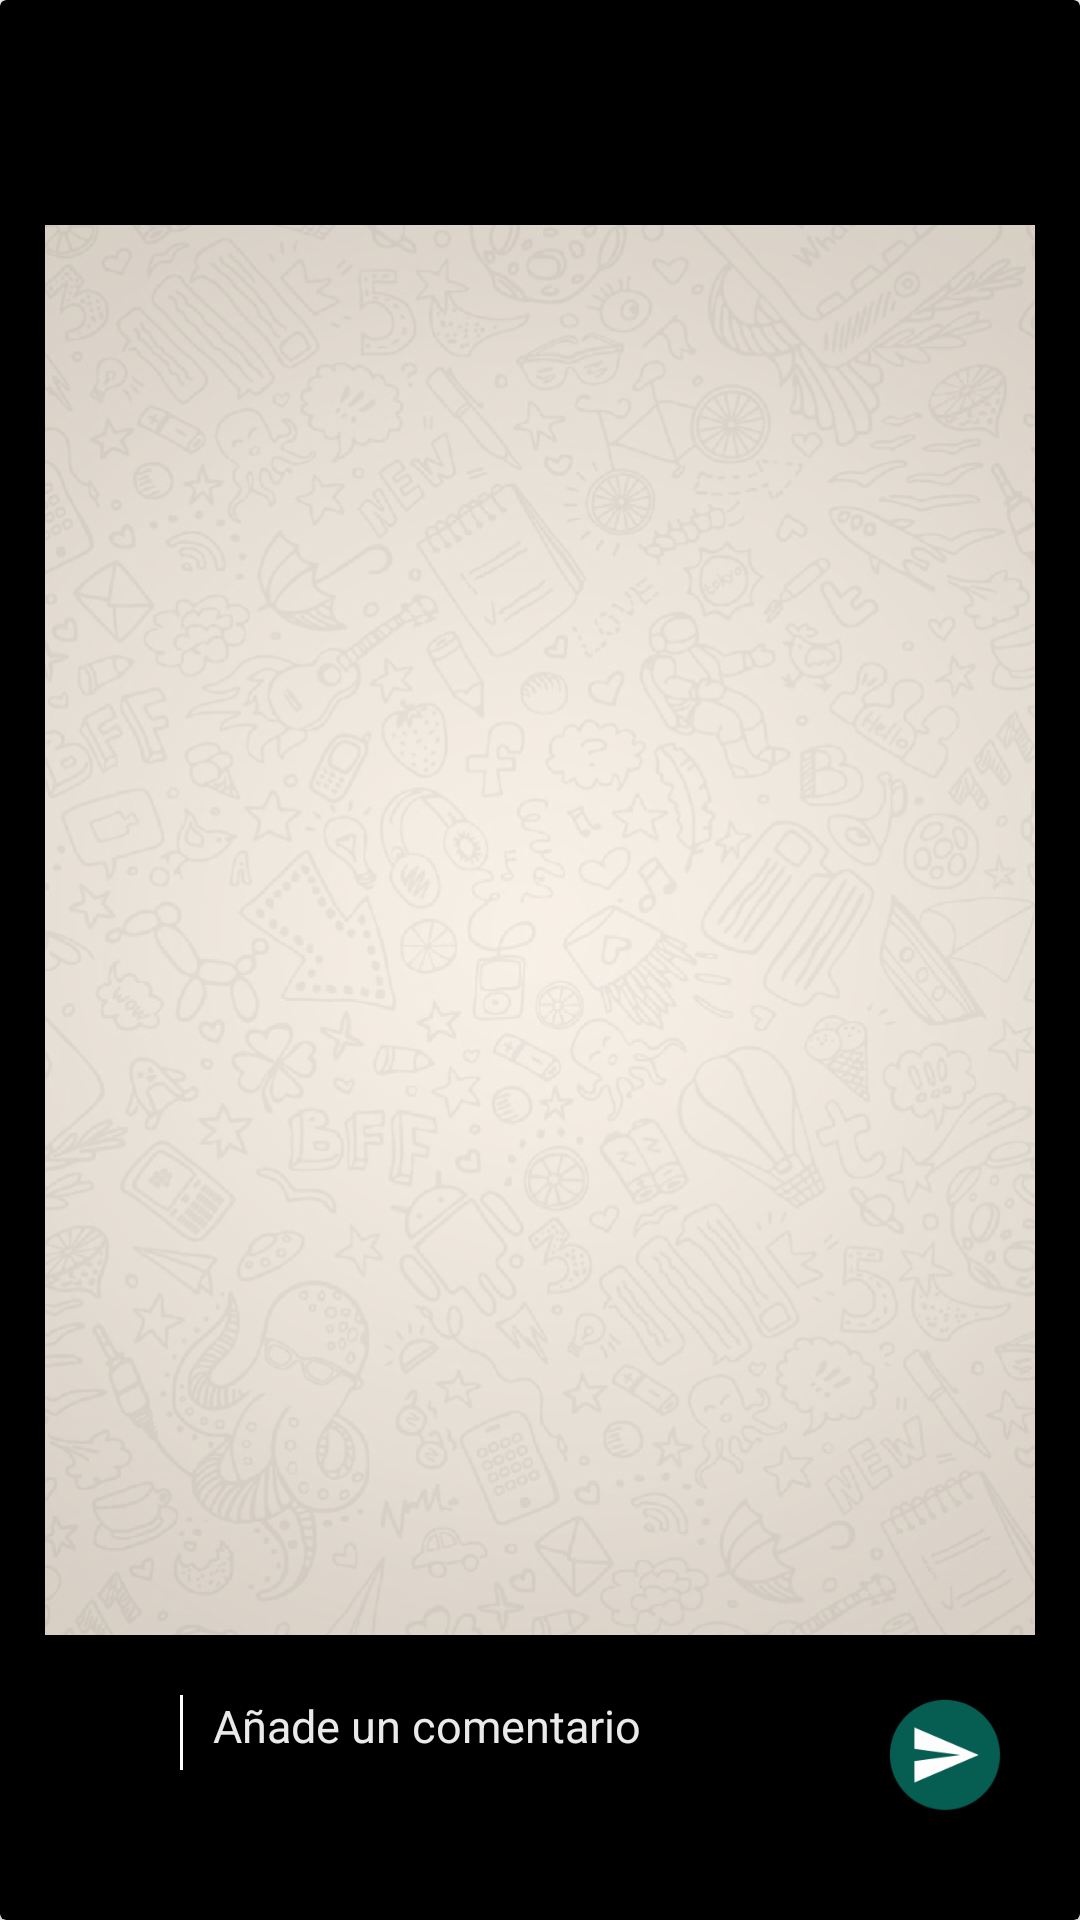

Icon bounding boxes for this 1080×1920 phone screenshot, format [x1, y1, x2, y2]:
send: [890, 1700, 1000, 1810]
